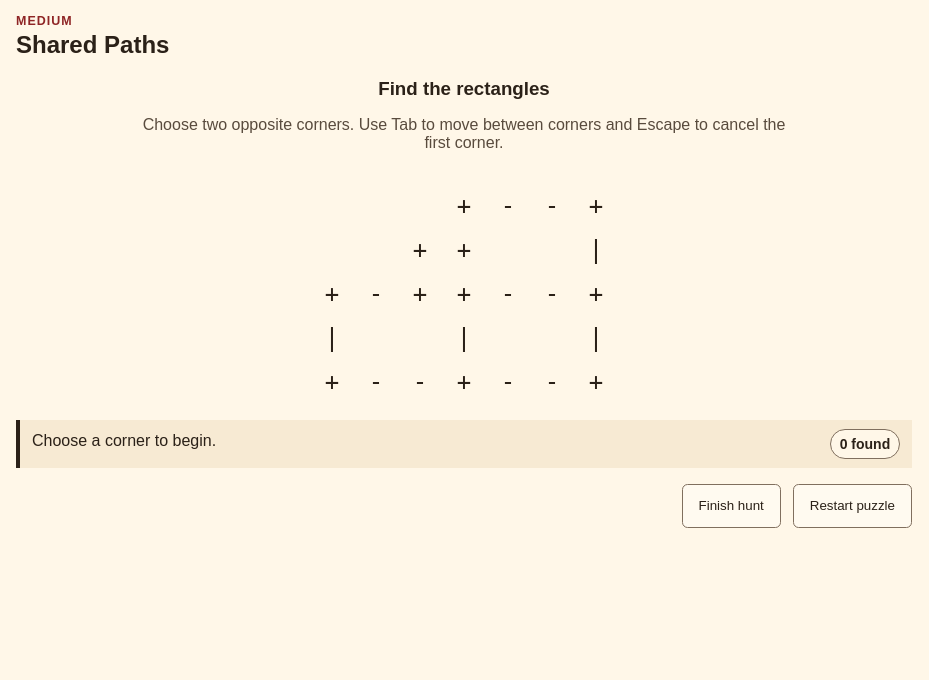
Test: Rectangle Hunt game loop › records and focuses a valid new rectangle
The width and height of the screenshot is (929, 680).
Click the button named "Corner at row 1, column 4" at [464, 206], box [442,184,486,228]
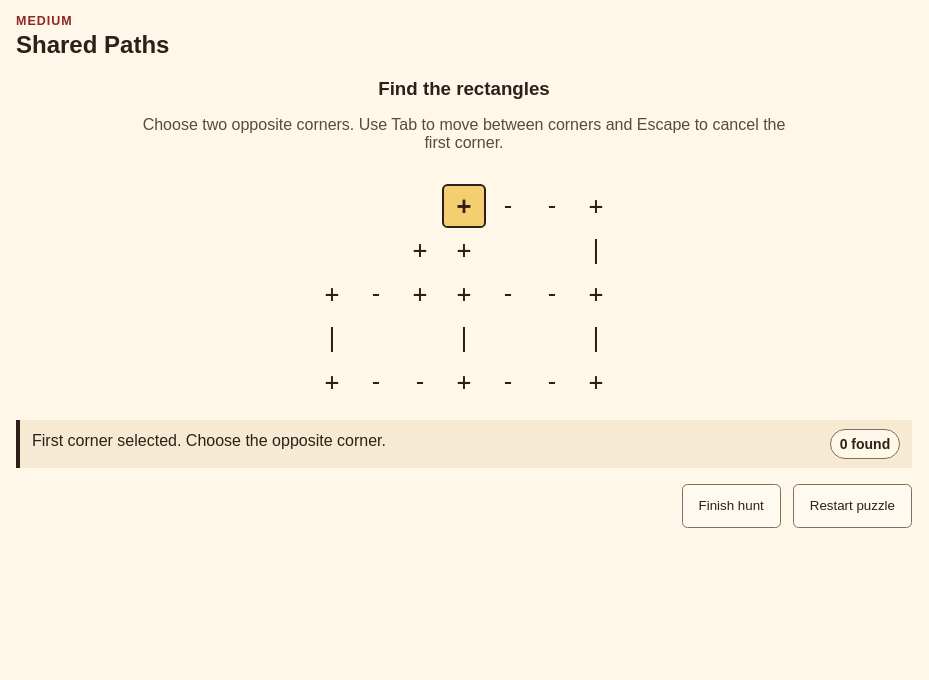
Click the 8th button "+" at [596, 294], box [574,272,618,316]
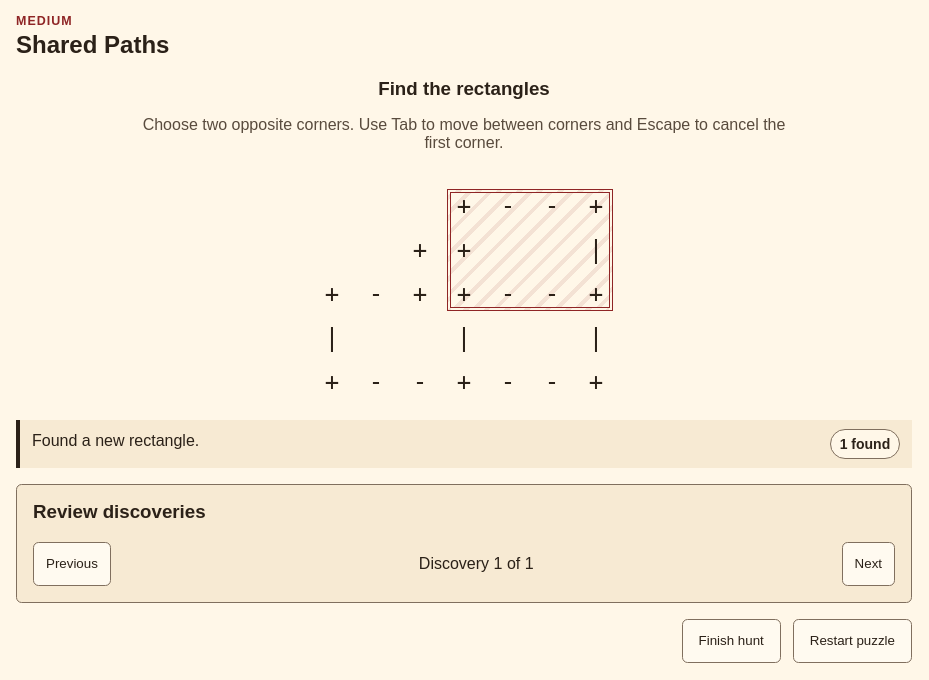
Expected: the message named "Game status" reads "Found a new rectangle.", [32,432,199,449]
Expected: the text named "1 rectangle found" reads "1 found", [830,429,900,458]
Expected: the text "Discovery 1 of 1" is shown, [419,555,534,573]
